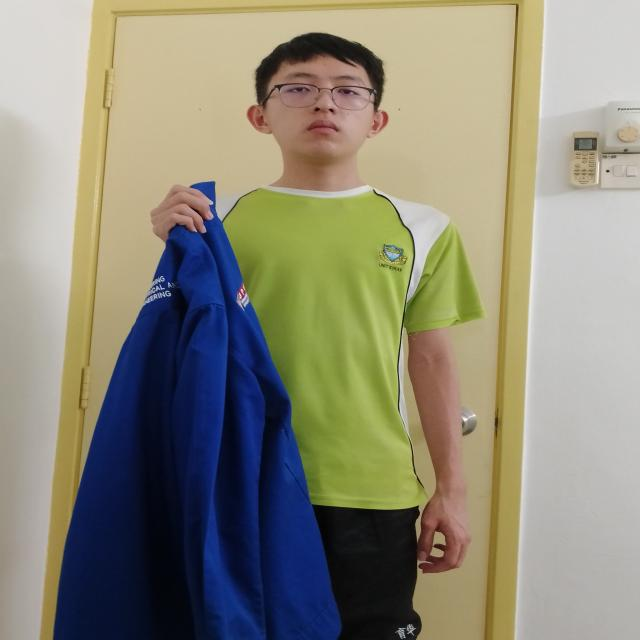person_without_labcoat: (56, 33, 484, 640)
